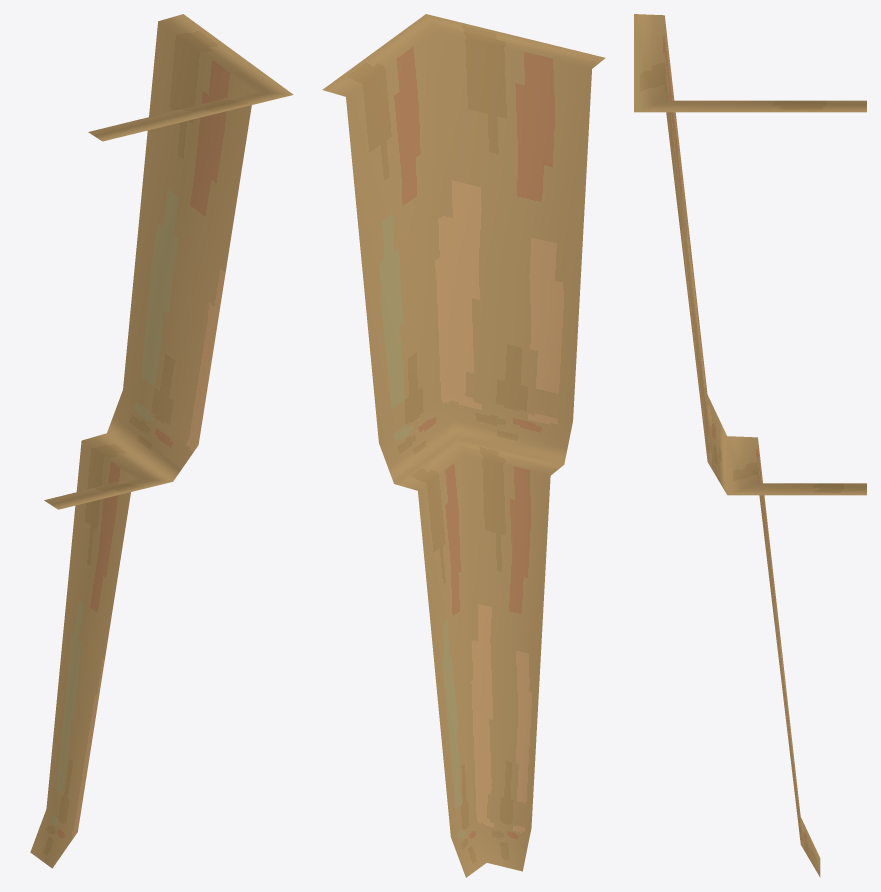
Rendered from hgss-ch7-mur-2_0-left.glb.
The picture shows the model from 3 angles, left to right: view 1: azimuth 30°, elevation 25°; view 2: azimuth 150°, elevation 25°; view 3: azimuth 270°, elevation 25°; orthographic projection. The views are drawn at different scales.
Size of the model in its own units: 0.5 by 2 by 0.5.
1 material, 1 textured.
